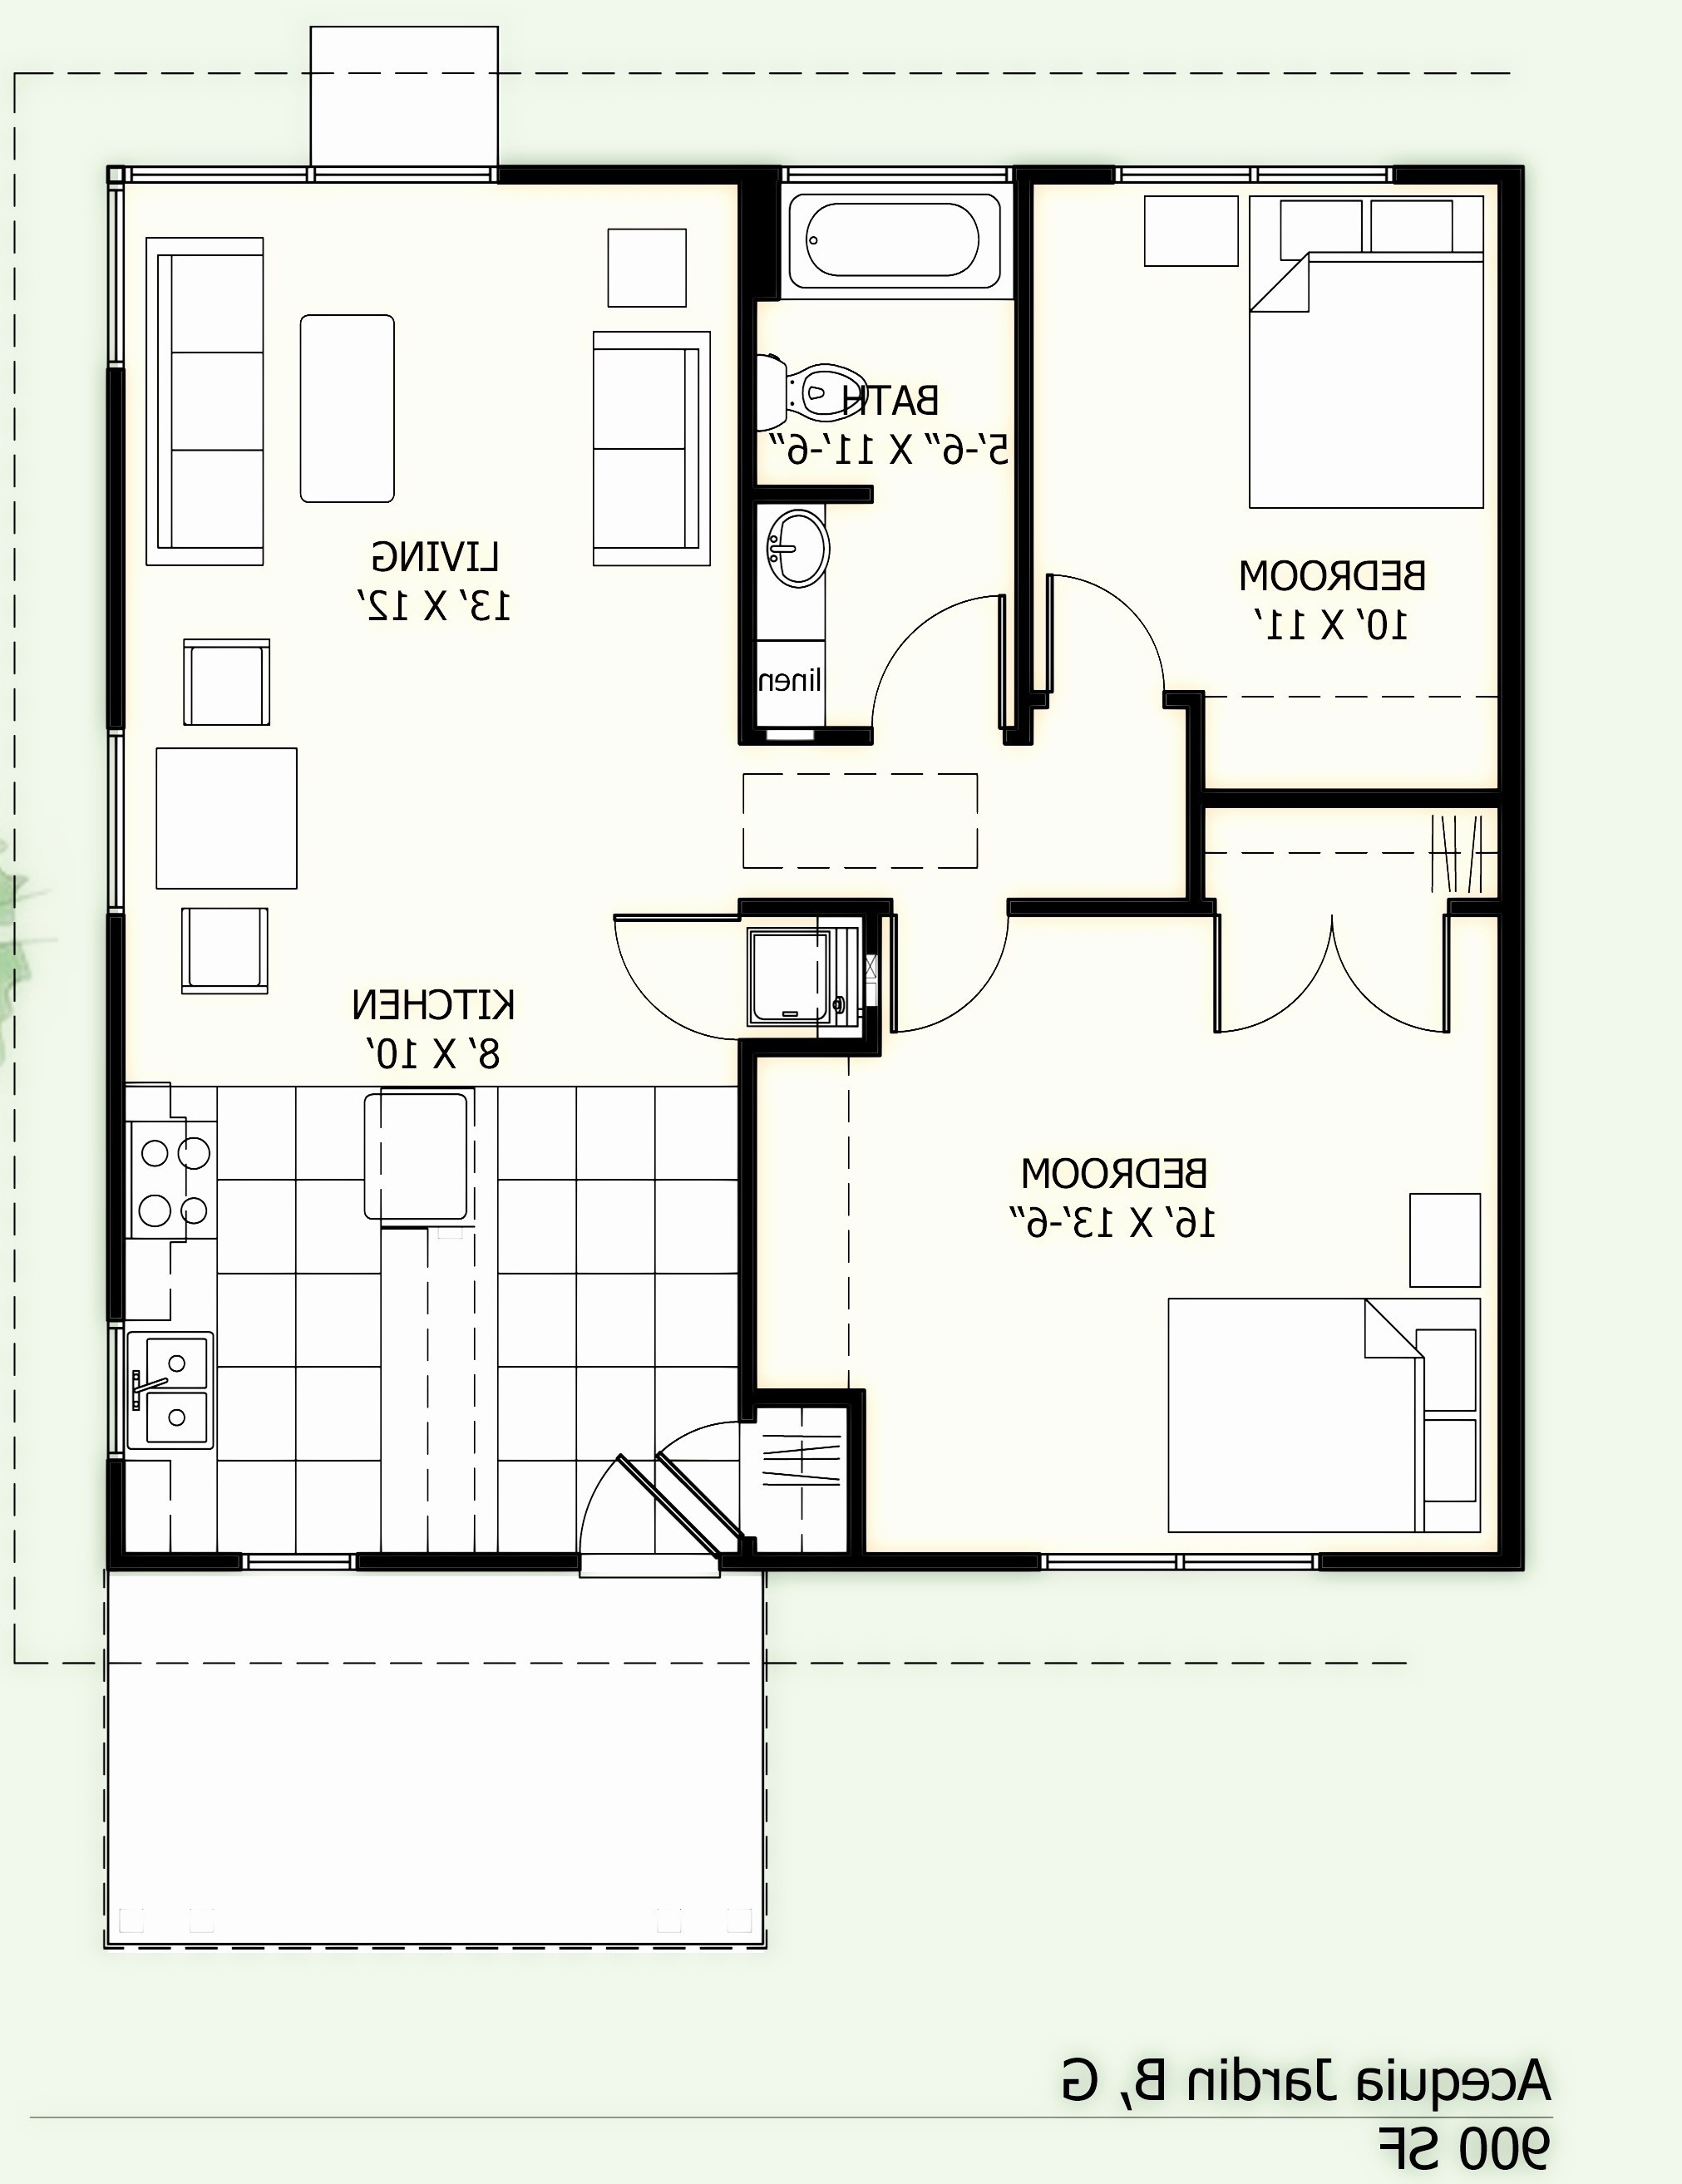door: (1196, 922, 1465, 1083), (587, 910, 730, 1048), (862, 587, 1009, 719), (1041, 562, 1163, 689), (889, 919, 1009, 1037), (580, 1451, 689, 1550), (657, 1407, 735, 1521)
